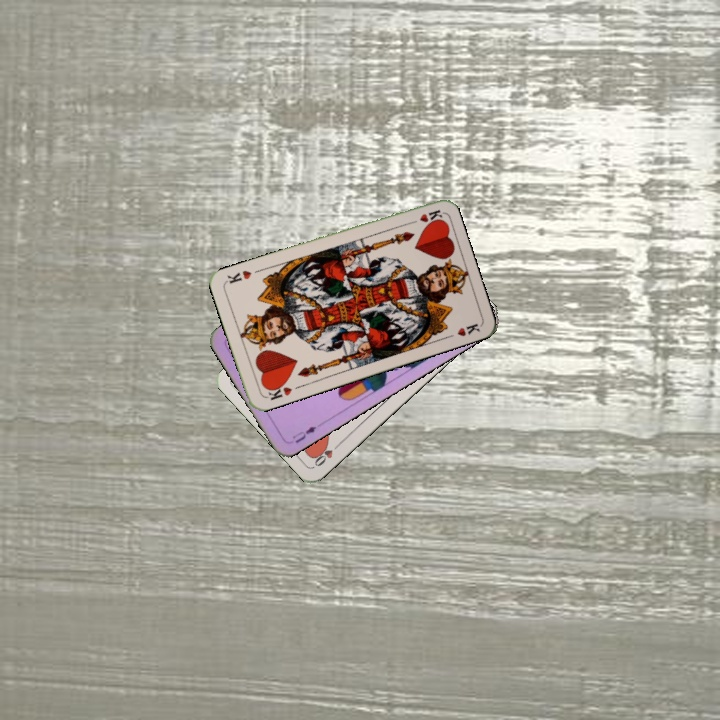EU: (288, 422, 319, 446)
HK: (403, 205, 444, 227), (262, 378, 295, 403)
HO: (310, 438, 344, 469)
